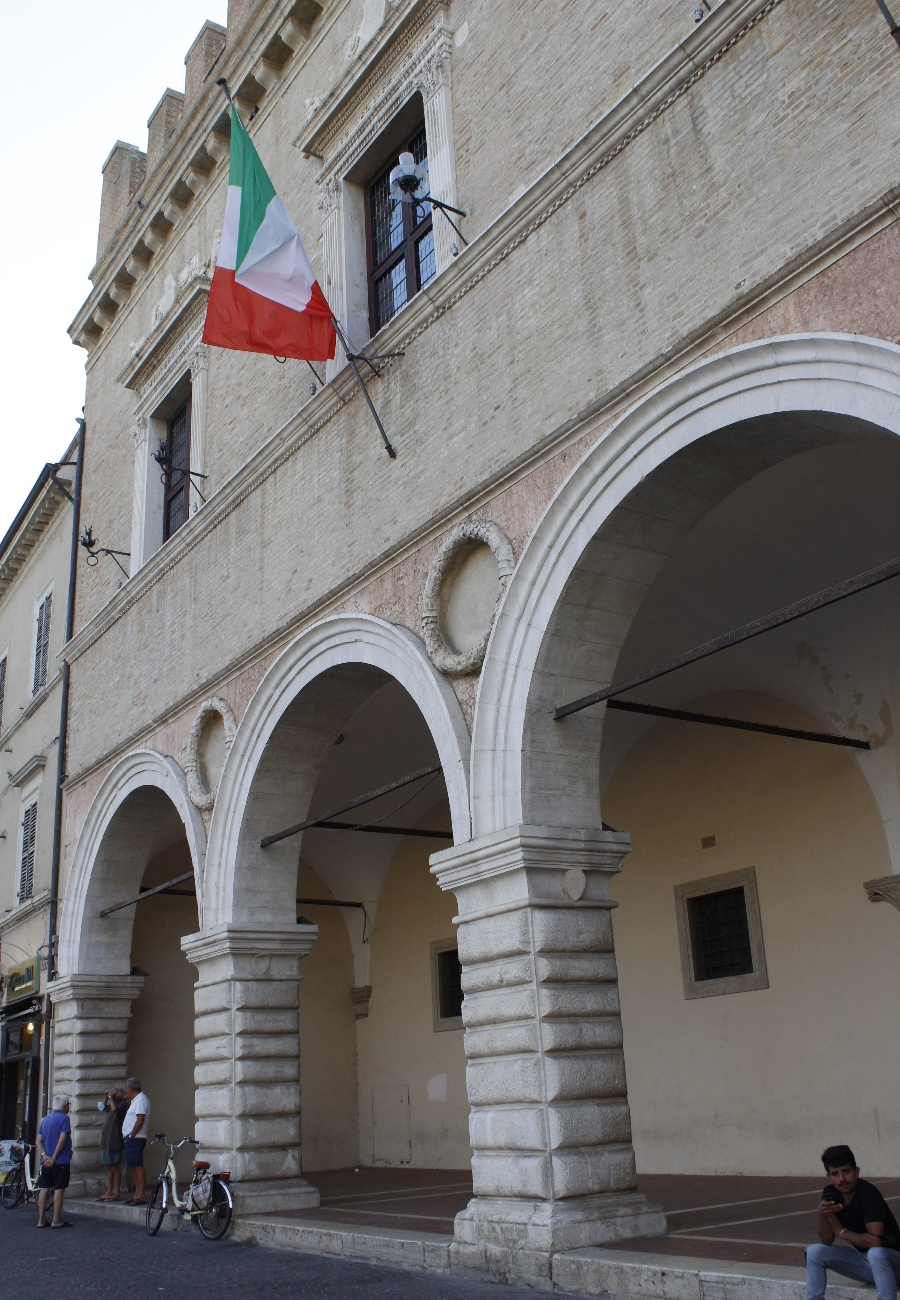Palazzo Ducale: (69, 1, 900, 1275)
